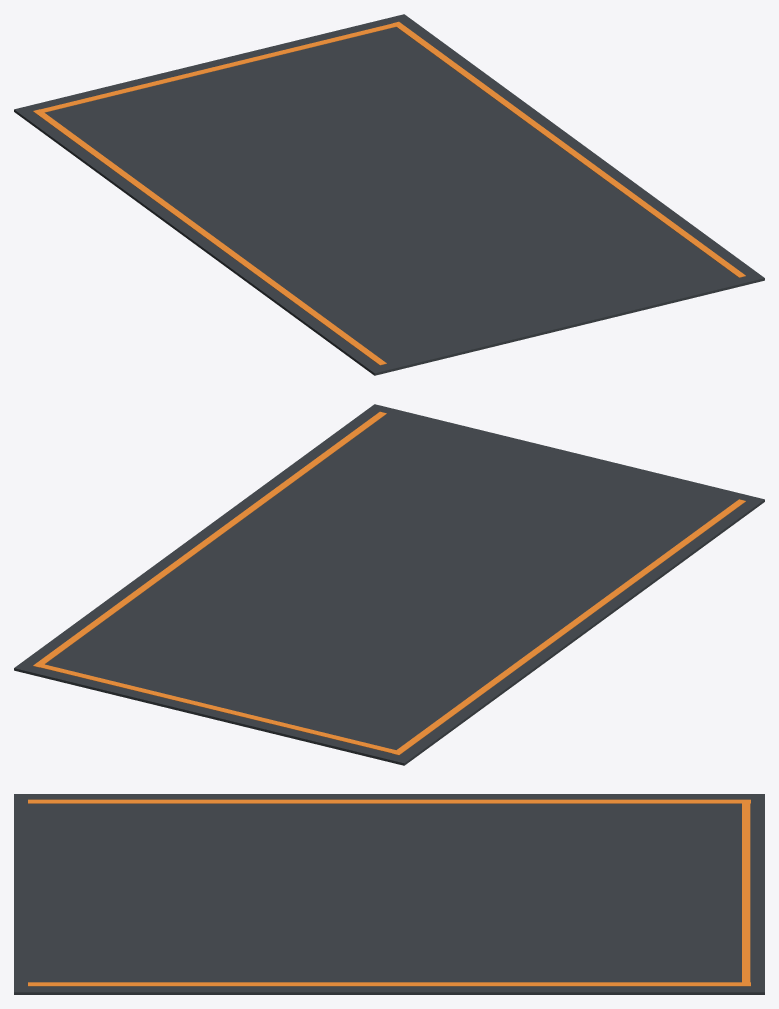
The model's file is stock-car-oval-speedway-pit-stall-marking-da3ddeb6__16941.glb.
The picture shows the model from 3 angles, top to bottom: view 1: azimuth 30°, elevation 25°; view 2: azimuth 150°, elevation 25°; view 3: azimuth 270°, elevation 25°; orthographic projection. The views are drawn at different scales.
Visible parts, largest first — view 1: pit-stall-marking; view 2: pit-stall-marking; view 3: pit-stall-marking.
Part boxes in pixels (left/top/right/bottom): pit-stall-marking: left=14, top=14, right=764, bottom=375; pit-stall-marking: left=14, top=404, right=764, bottom=765; pit-stall-marking: left=14, top=794, right=764, bottom=994.
Size of the model in its own units: 5 by 0.035 by 8.
